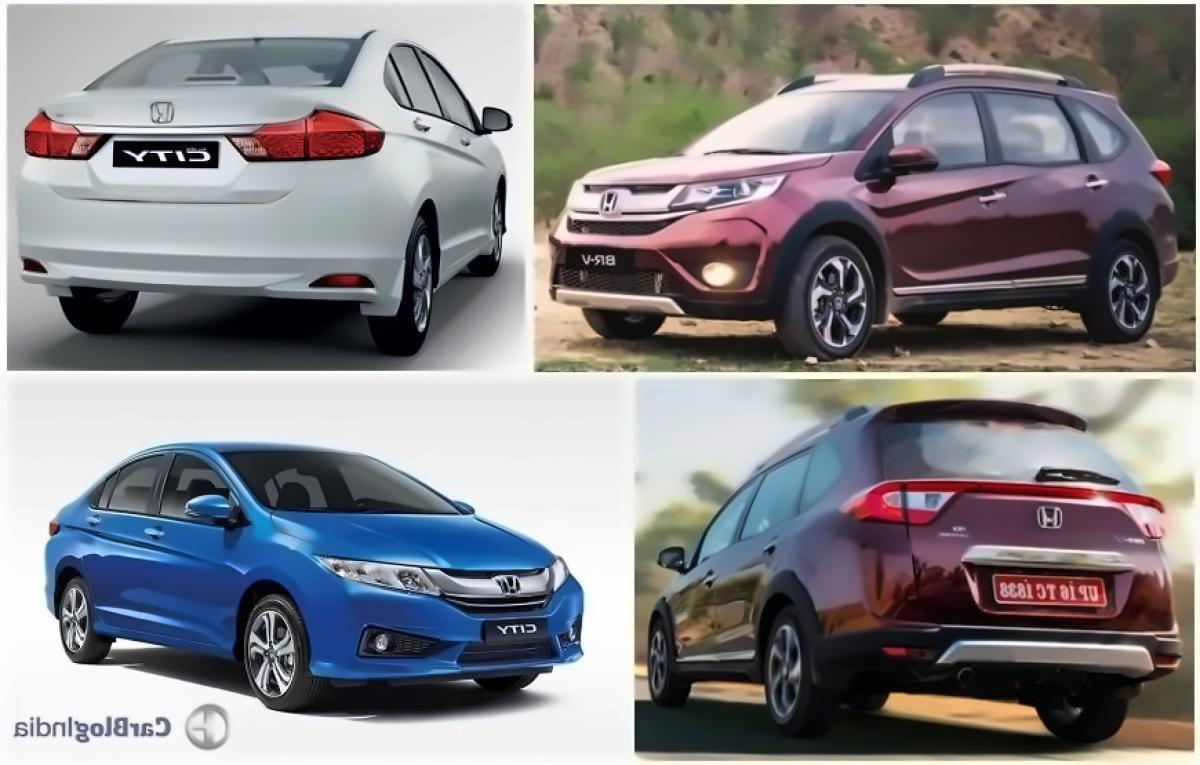Car boot: (899, 397, 1158, 636), (29, 84, 354, 218)
Car hood: (272, 505, 573, 573), (572, 147, 839, 194)
Driver-s door - -F-R-: (160, 447, 249, 647), (440, 63, 499, 252)
Fender - -F-L-: (775, 153, 899, 320)
Fender - -F-R-: (229, 514, 326, 662)
Fender - -R-L-: (799, 496, 881, 614), (1102, 164, 1163, 238)
Fender - -R-R-: (384, 122, 445, 288), (54, 520, 102, 642)
Front bumper: (299, 579, 587, 694), (539, 219, 799, 323)
Headlight - -L-: (663, 170, 804, 220), (532, 552, 578, 599)
Headlight - -R-: (295, 542, 445, 602), (552, 172, 601, 223)
Passenger-s door - -F-L-: (889, 75, 1008, 291), (674, 457, 743, 656)
Passenger-s door - -R-L-: (993, 78, 1114, 295), (720, 438, 824, 654)
Passenger-s door - -R-R-: (82, 444, 167, 626), (380, 42, 446, 264)
Rear bumper: (14, 160, 413, 326), (811, 527, 1196, 697), (1144, 197, 1200, 303), (27, 545, 73, 617)
Rear light - -L-: (838, 464, 969, 536), (19, 105, 126, 167), (1132, 150, 1186, 187)
Rear light - -R-: (224, 100, 387, 178), (1107, 482, 1183, 544), (32, 515, 72, 547)
Side bumper - -L-: (874, 252, 1095, 326), (669, 650, 770, 685)
Side bumper - -R-: (77, 590, 240, 668), (434, 217, 502, 293)
Side mirror - -L-: (870, 135, 945, 178), (645, 537, 699, 580), (434, 487, 479, 518)
Side mirror - -R-: (467, 94, 523, 147), (184, 489, 251, 530)
